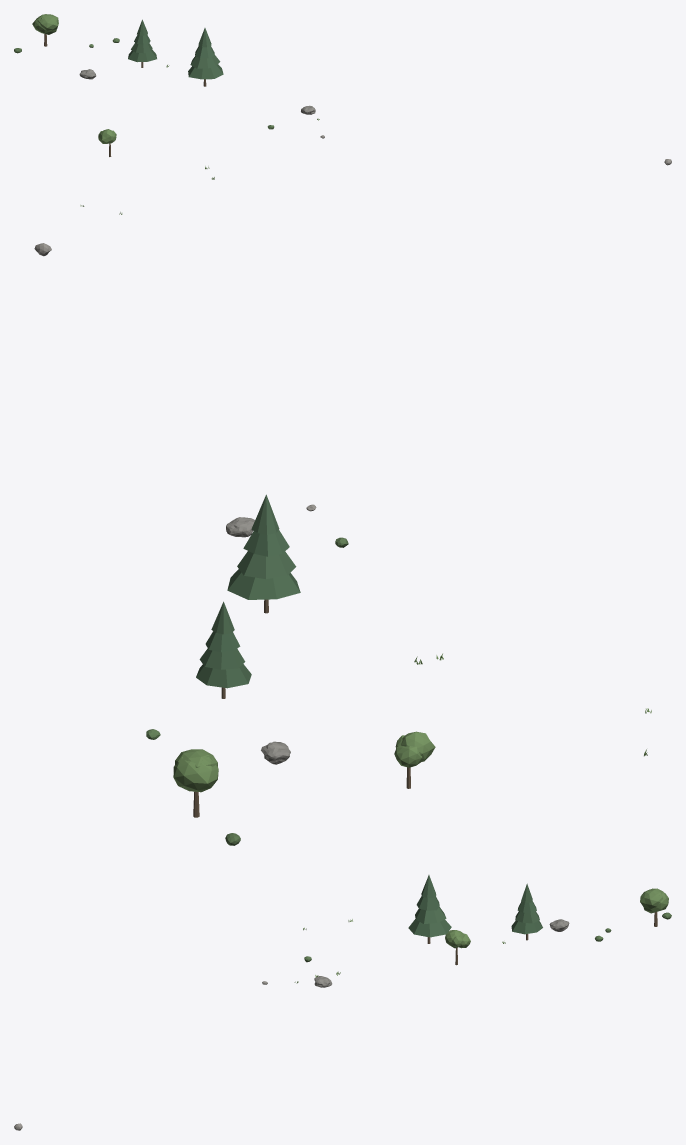
File: arch_land_scatter_c19_20.glb
3 renders of one model, top to bottom at view 1: azimuth 30°, elevation 25°; view 2: azimuth 150°, elevation 25°; view 3: azimuth 270°, elevation 25°, orthographic. The views are drawn at different scales.
Visible parts, largest first — view 1: arch_land_scatter_c19_20; view 2: arch_land_scatter_c19_20; view 3: arch_land_scatter_c19_20.
Boxes of the visible parts, x1,y1,x2,y2 form: arch_land_scatter_c19_20: (14, 14, 671, 214); arch_land_scatter_c19_20: (34, 243, 651, 845); arch_land_scatter_c19_20: (14, 875, 671, 1130).
Size of the model in its own units: 126 by 31.53 by 137.
